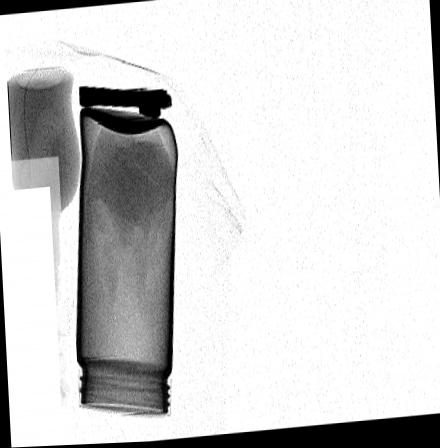Gun: (77, 87, 169, 119)
